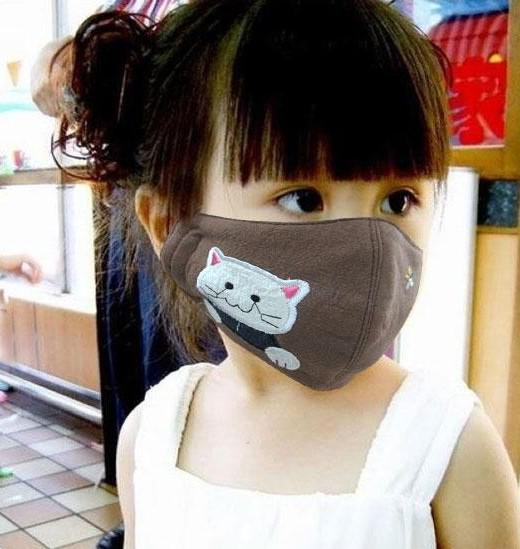OK: (200, 143, 421, 370)
